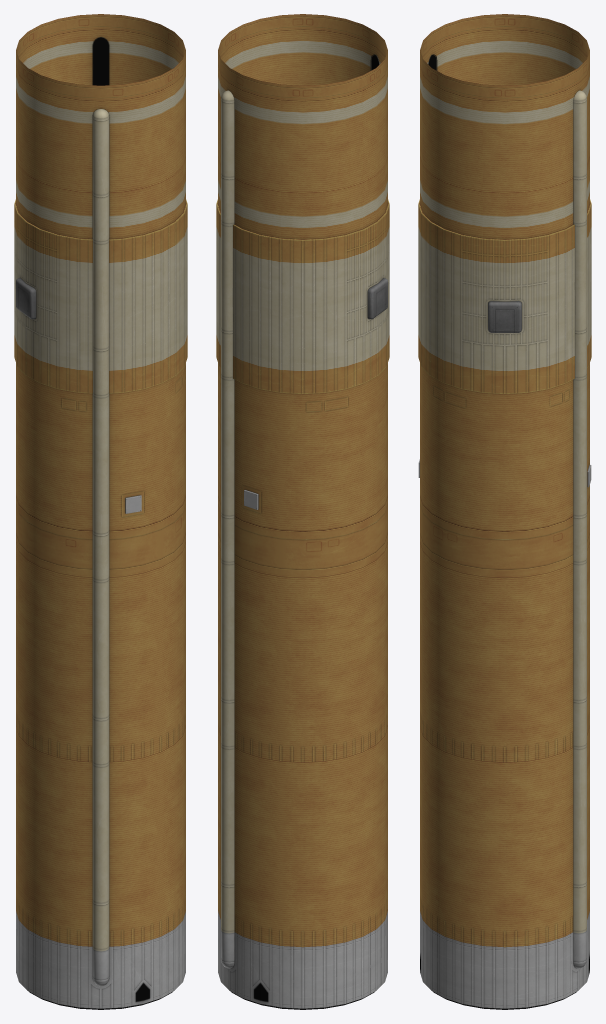
Rendered from lower stage.obj.
The picture shows the model from 3 angles, left to right: view 1: azimuth 30°, elevation 25°; view 2: azimuth 150°, elevation 25°; view 3: azimuth 270°, elevation 25°; orthographic projection.
Parts seen in each view (by area): view 1: long; view 2: long; view 3: long.
Part boxes in pixels (<box>): long: <box>14,14,187,1009</box>; long: <box>216,14,389,1009</box>; long: <box>418,14,591,1009</box>.
Bounding box in the file's own units: 2.65 × 15.04 × 2.55.
Materials: 1 (1 with a texture image).
